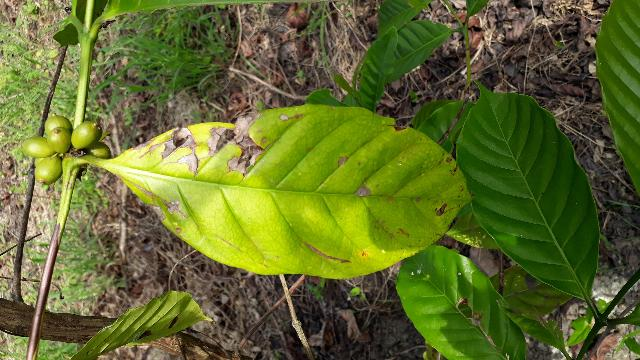rust_level_1: (112, 106, 473, 279)
